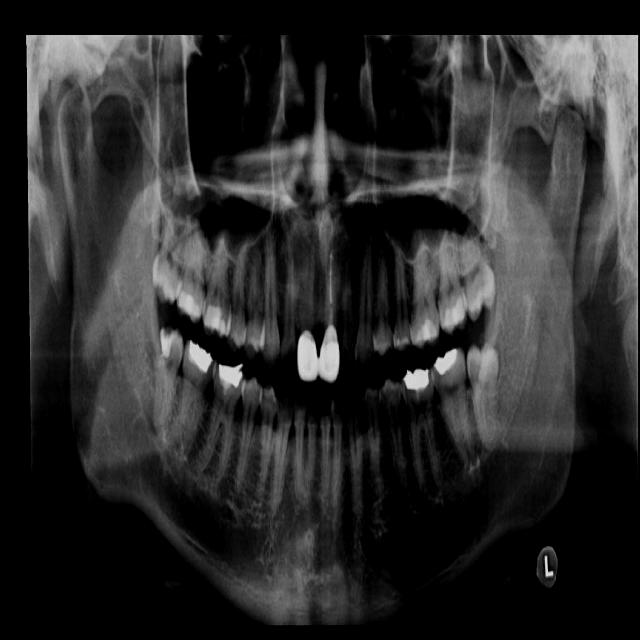Caries: (203, 374, 211, 402), (212, 378, 216, 400)
Crown: (297, 325, 340, 383)
Filling: (202, 303, 232, 337), (188, 339, 214, 372), (219, 362, 244, 395), (177, 290, 202, 319), (435, 348, 460, 376), (442, 297, 465, 326), (404, 367, 430, 391), (420, 319, 437, 340)
Root Canal Treatment: (329, 251, 332, 320)
impacted tooth: (467, 344, 508, 442), (151, 331, 183, 440), (154, 202, 188, 302)
